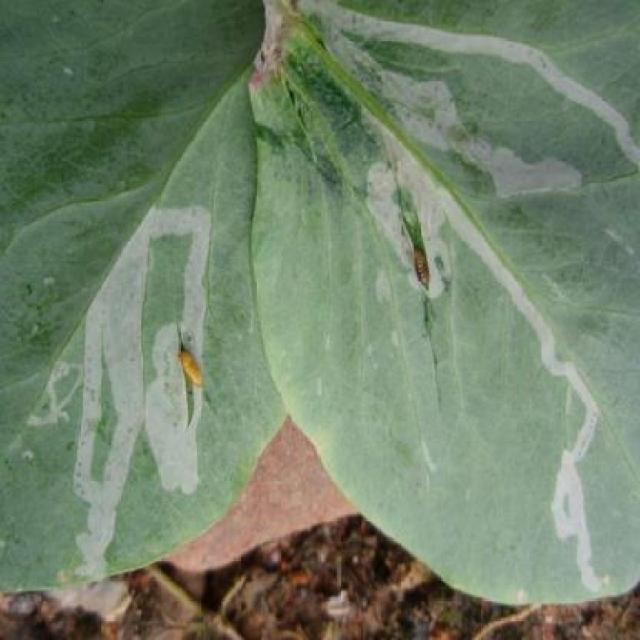whorl-maggot: (171, 345, 211, 401), (408, 239, 437, 296)
